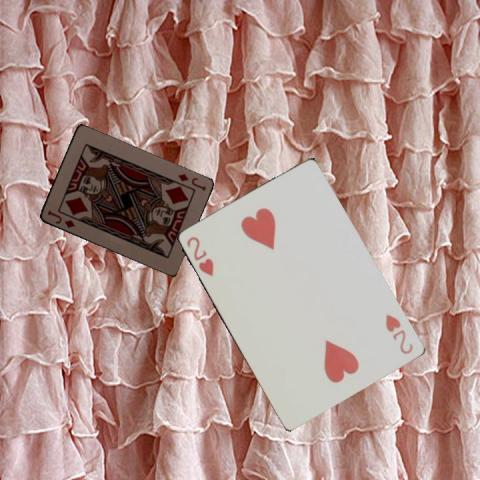2h: (382, 311, 414, 356), (182, 233, 214, 277)
Jd: (174, 170, 207, 192), (44, 208, 76, 229)
